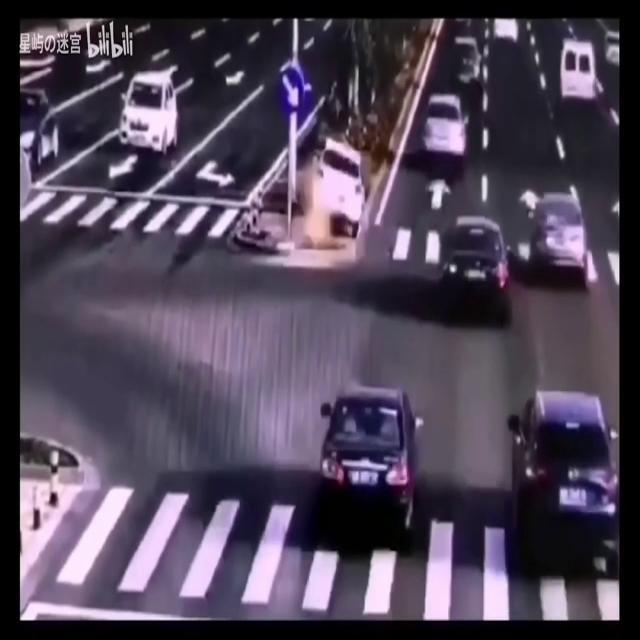normal: (469, 359, 640, 588), (436, 173, 618, 328), (296, 365, 428, 545), (96, 70, 213, 165), (543, 30, 614, 128)
single accident: (278, 111, 363, 253)
